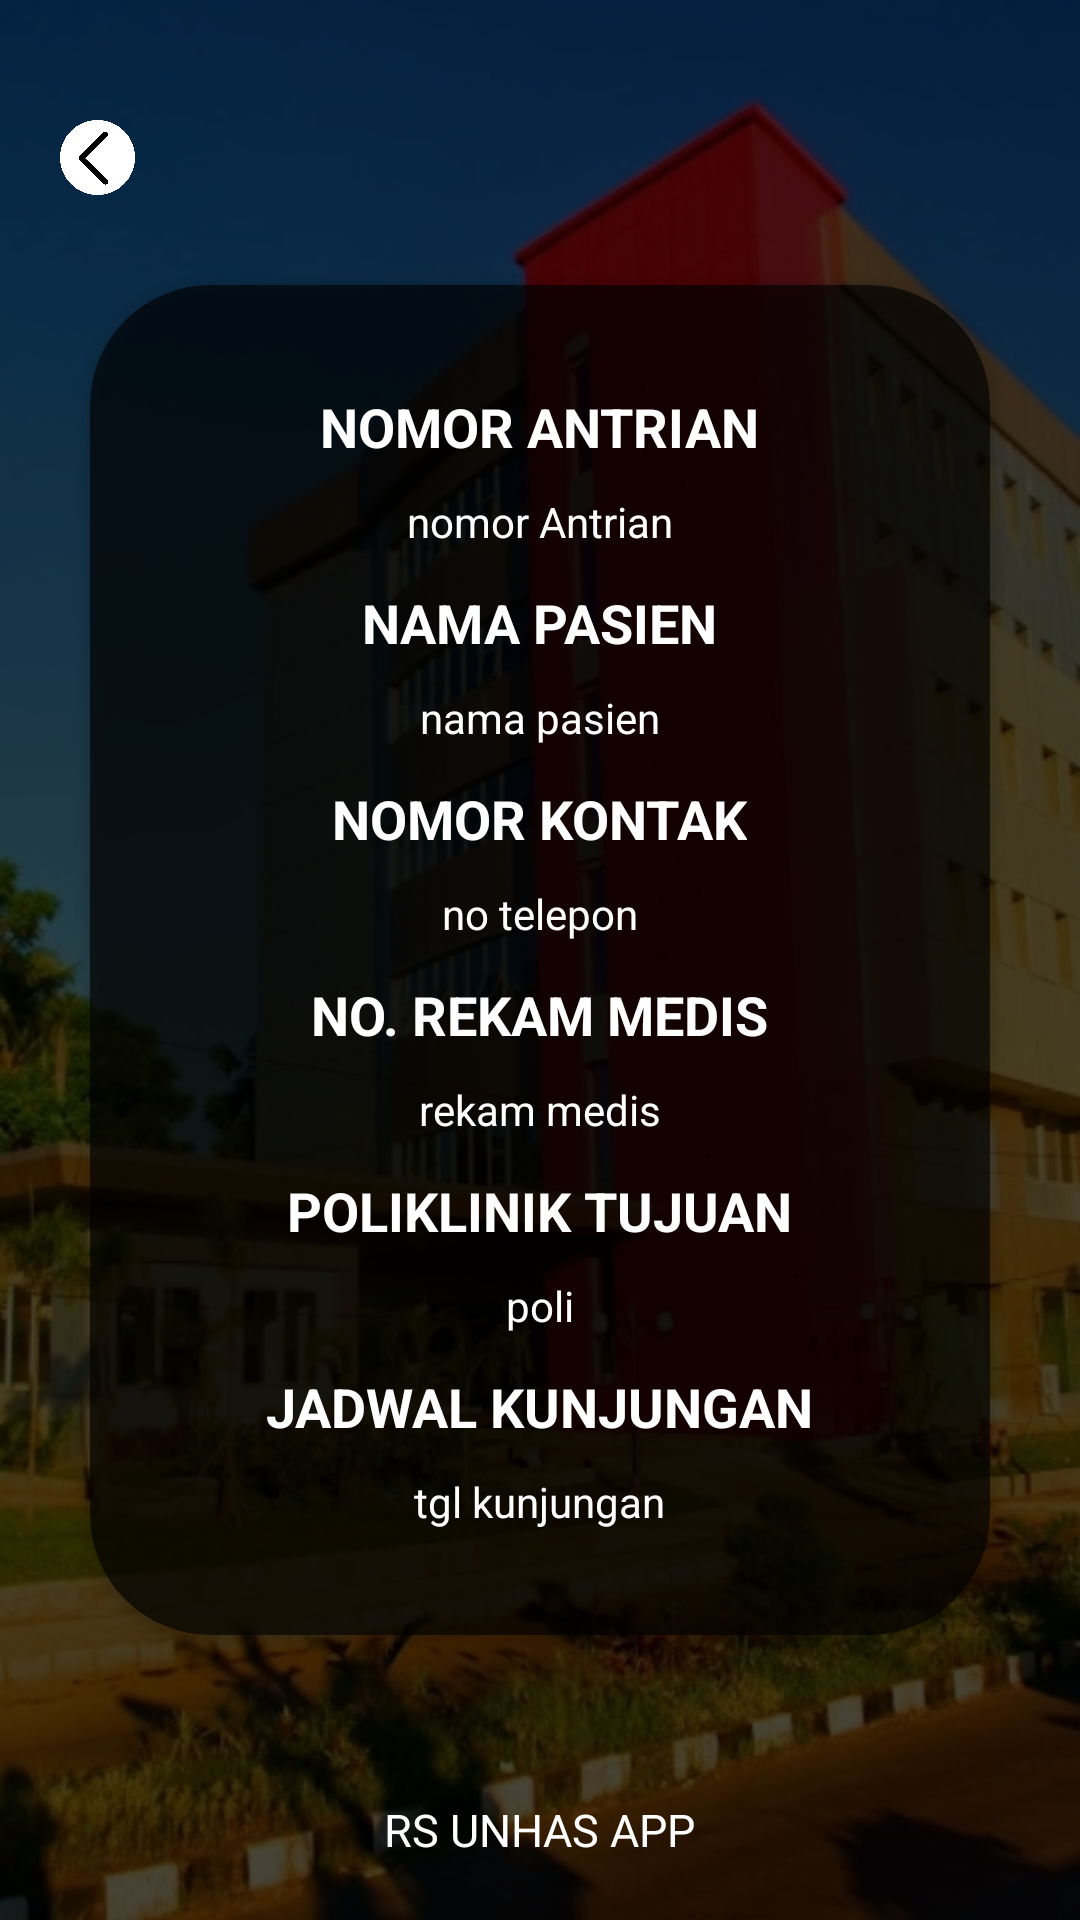

Screen size 1080x1920. Icon name, then its box in pixels as rect(x1, y1, x2, y2):
back: rect(60, 120, 135, 195)
